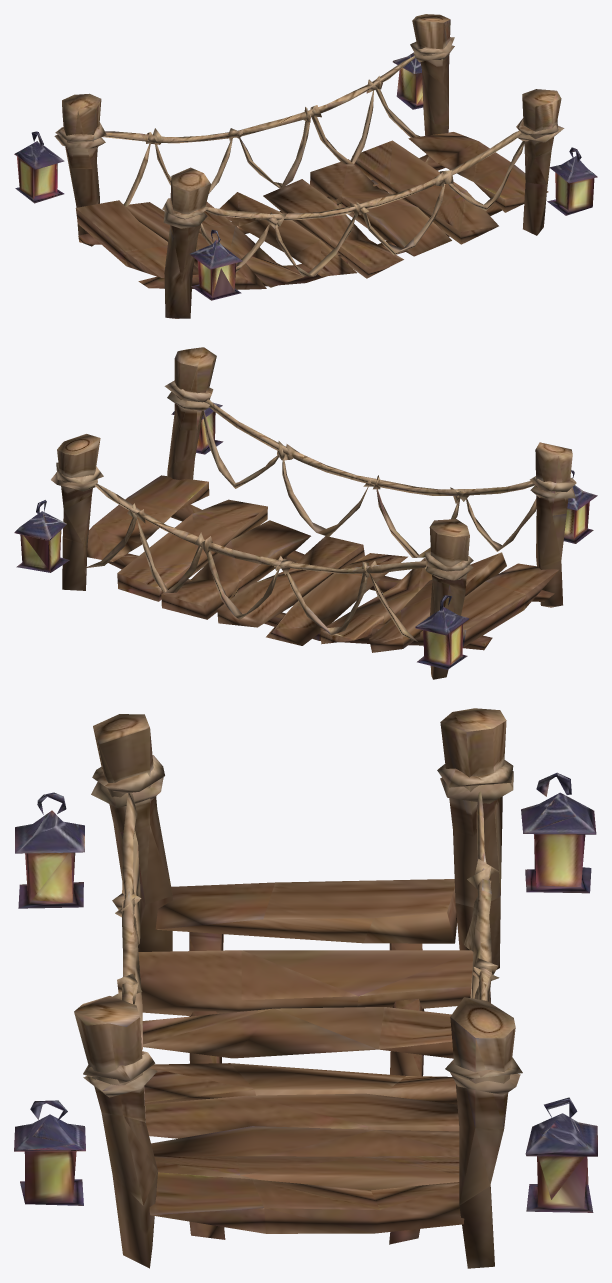
Rendered from br-pont-semis.glb.
3 views of the same model, one above another, from view 1: azimuth 30°, elevation 25°; view 2: azimuth 150°, elevation 25°; view 3: azimuth 270°, elevation 25° (orthographic). The views are drawn at different scales.
Parts seen in each view (by area): view 1: br-pont-1500; view 2: br-pont-1500; view 3: br-pont-1500.
Part boxes in pixels (x1,y1,x2,y2): br-pont-1500: (14,14,597,318); br-pont-1500: (14,347,597,679); br-pont-1500: (14,708,597,1268).
Bounding box in the file's own units: 2 × 0.7188 × 1.44.
1 material, 1 textured.
